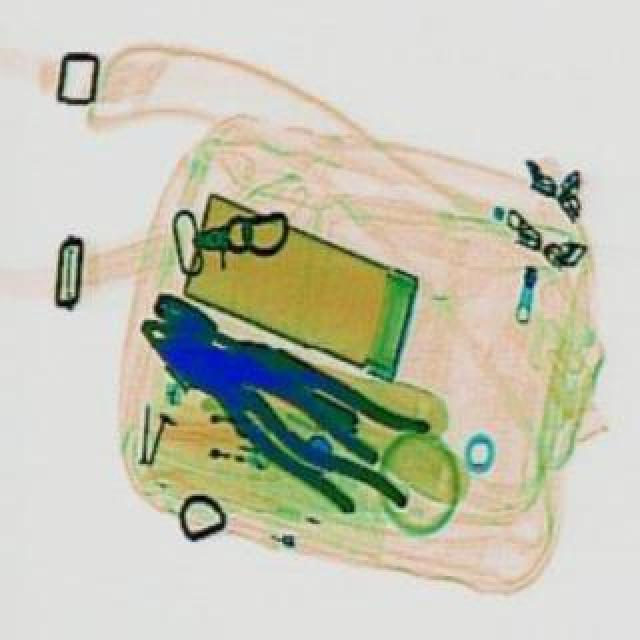wrench: (114, 302, 398, 524), (140, 312, 448, 516)
